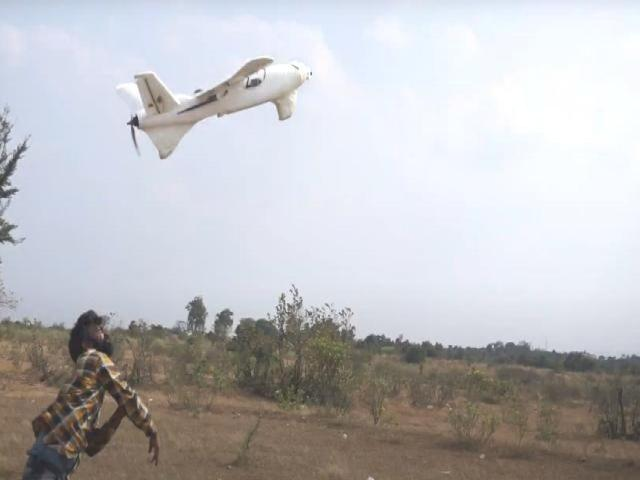iha: (117, 47, 320, 160)
